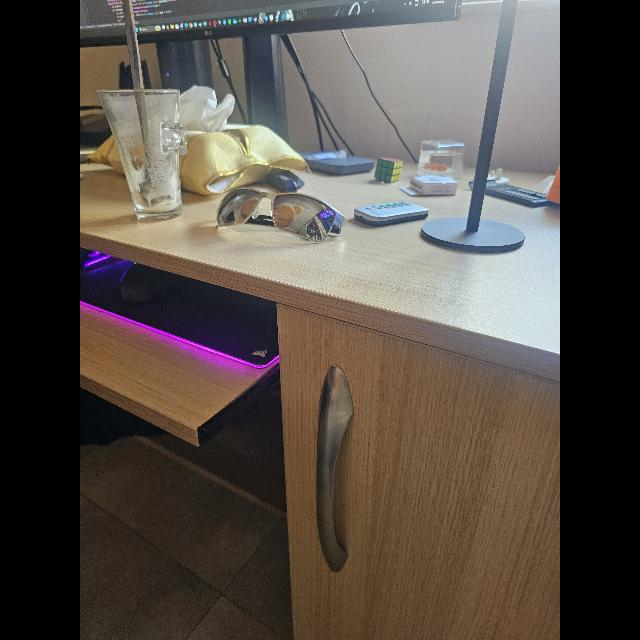Sunglasses: (217, 188, 346, 242)
